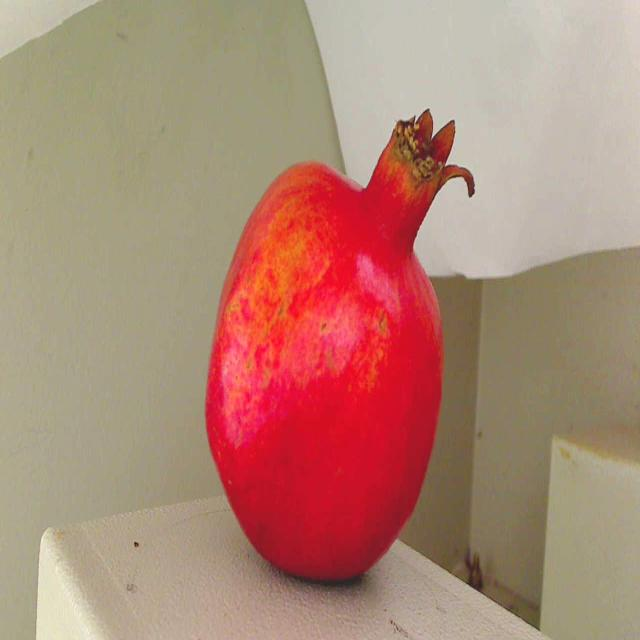pomegranate: (194, 89, 478, 597)
